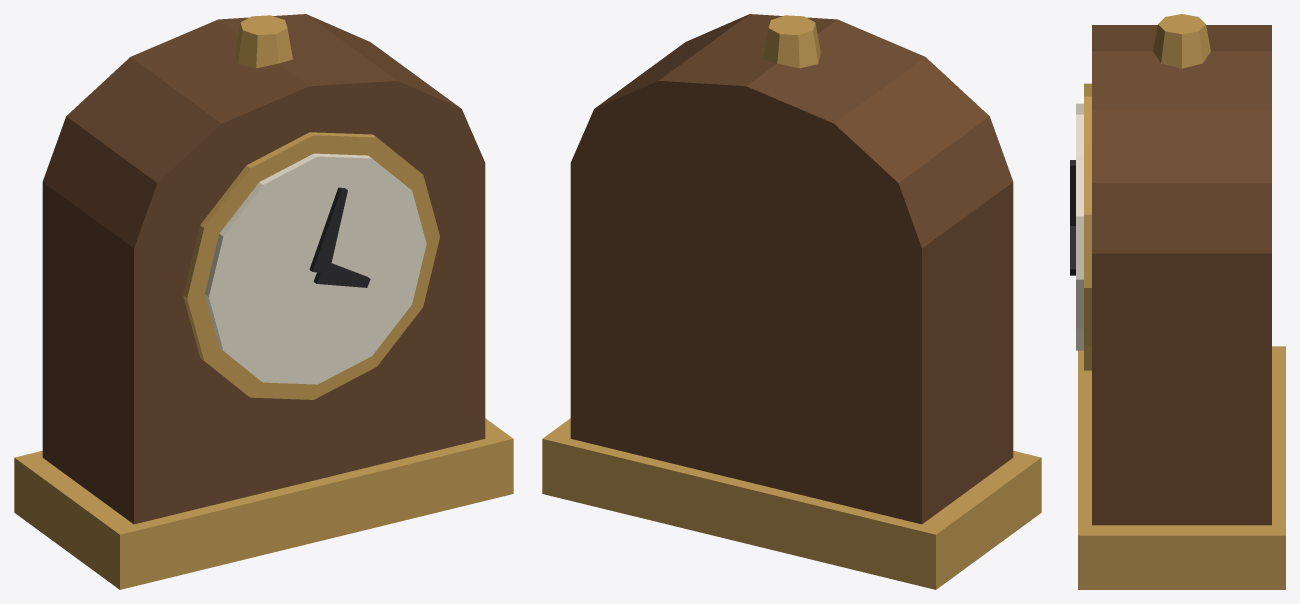
The model's file is FN_Clock_Table.glb.
3 renders of one model, left to right at view 1: azimuth 30°, elevation 25°; view 2: azimuth 150°, elevation 25°; view 3: azimuth 270°, elevation 25°, orthographic.
Visible parts, largest first — view 1: FN_Clock_Table; view 2: FN_Clock_Table; view 3: FN_Clock_Table.
Part boxes in pixels (x1,y1,x2,y2): FN_Clock_Table: (14, 14, 513, 589); FN_Clock_Table: (542, 14, 1041, 589); FN_Clock_Table: (1070, 14, 1285, 589).
Size of the model in its own units: 0.224 by 0.26 by 0.108.
Materials: 1 (1 with a texture image).
